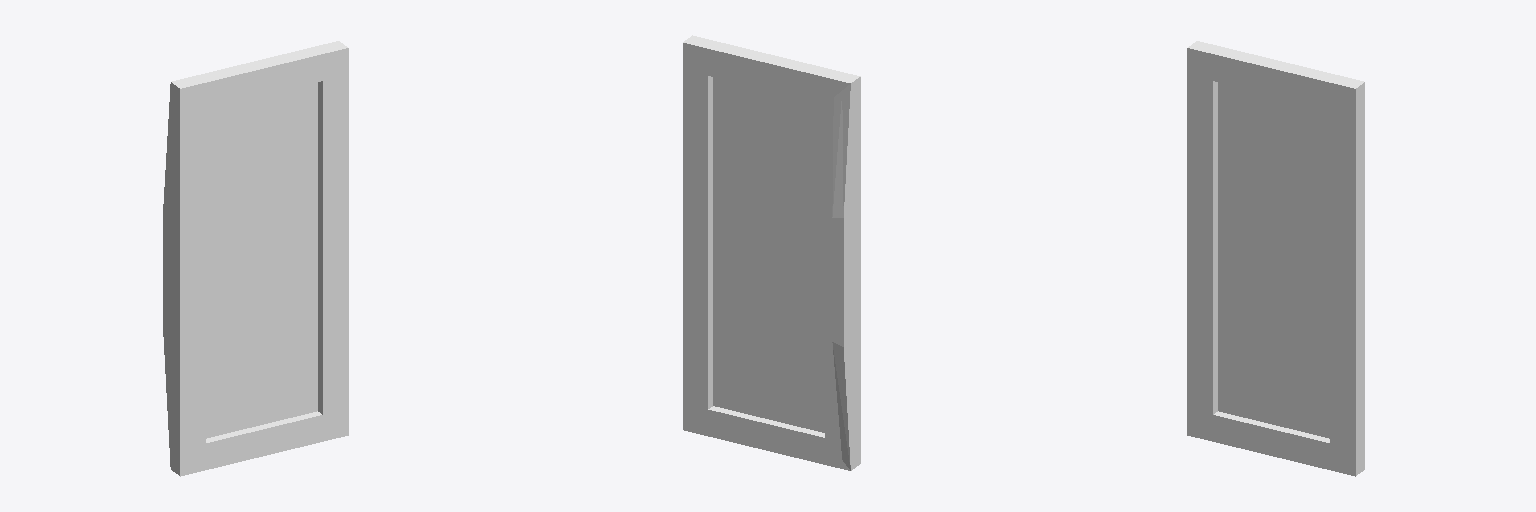
Rendered from refri_puerta_2.obj.
3 views of the same model, side by side, from view 1: azimuth 30°, elevation 25°; view 2: azimuth 150°, elevation 25°; view 3: azimuth 330°, elevation 25° (orthographic).
Parts seen in each view (by area): view 1: Cubo.023_Cubo.026; view 2: Cubo.023_Cubo.026; view 3: Cubo.023_Cubo.026.
Boxes of the visible parts, x1=… form: Cubo.023_Cubo.026: x1=163, y1=41, x2=348, y2=476; Cubo.023_Cubo.026: x1=683, y1=35, x2=860, y2=470; Cubo.023_Cubo.026: x1=1187, y1=41, x2=1364, y2=476.
Bounding box in the file's own units: 1 × 2.2 × 0.1748.